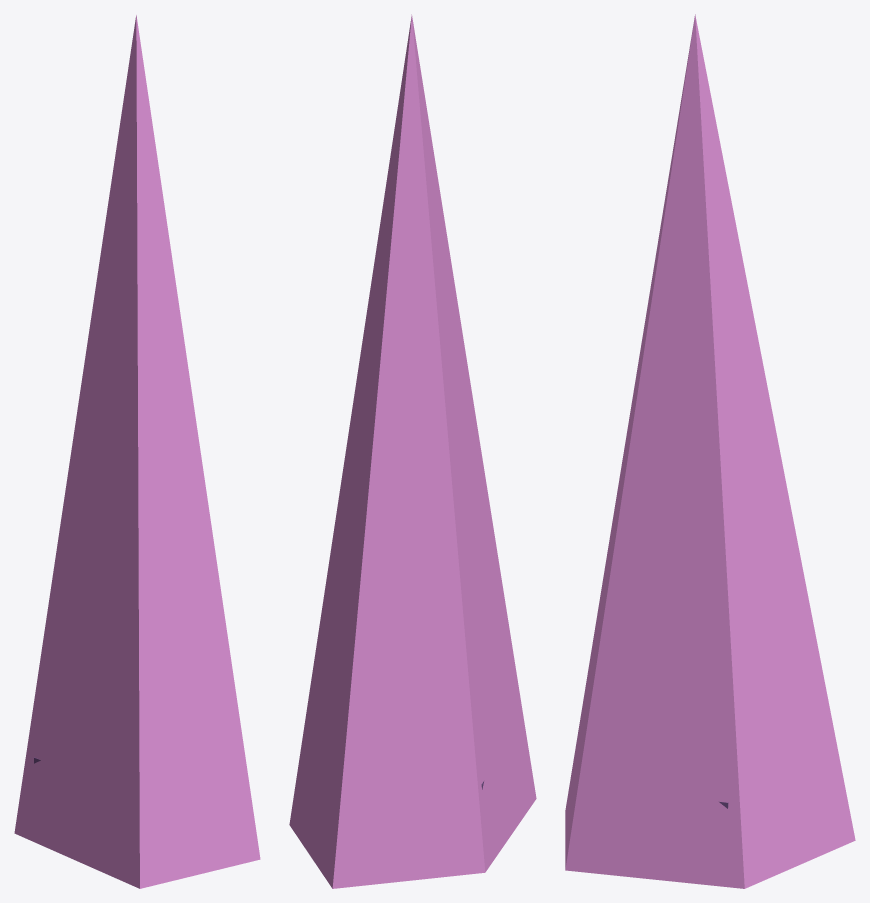
File: hostile_shard_02.glb
The picture shows the model from 3 angles, left to right: view 1: azimuth 30°, elevation 25°; view 2: azimuth 150°, elevation 25°; view 3: azimuth 270°, elevation 25°; orthographic projection.
Parts seen in each view (by area): view 1: hostile_shard_02; view 2: hostile_shard_02; view 3: hostile_shard_02.
Part boxes in pixels (x1,y1,x2,y2): hostile_shard_02: (14, 15, 260, 888); hostile_shard_02: (289, 14, 536, 888); hostile_shard_02: (565, 14, 855, 888).
Bounding box in the file's own units: 0.1355 × 0.5425 × 0.1719.
